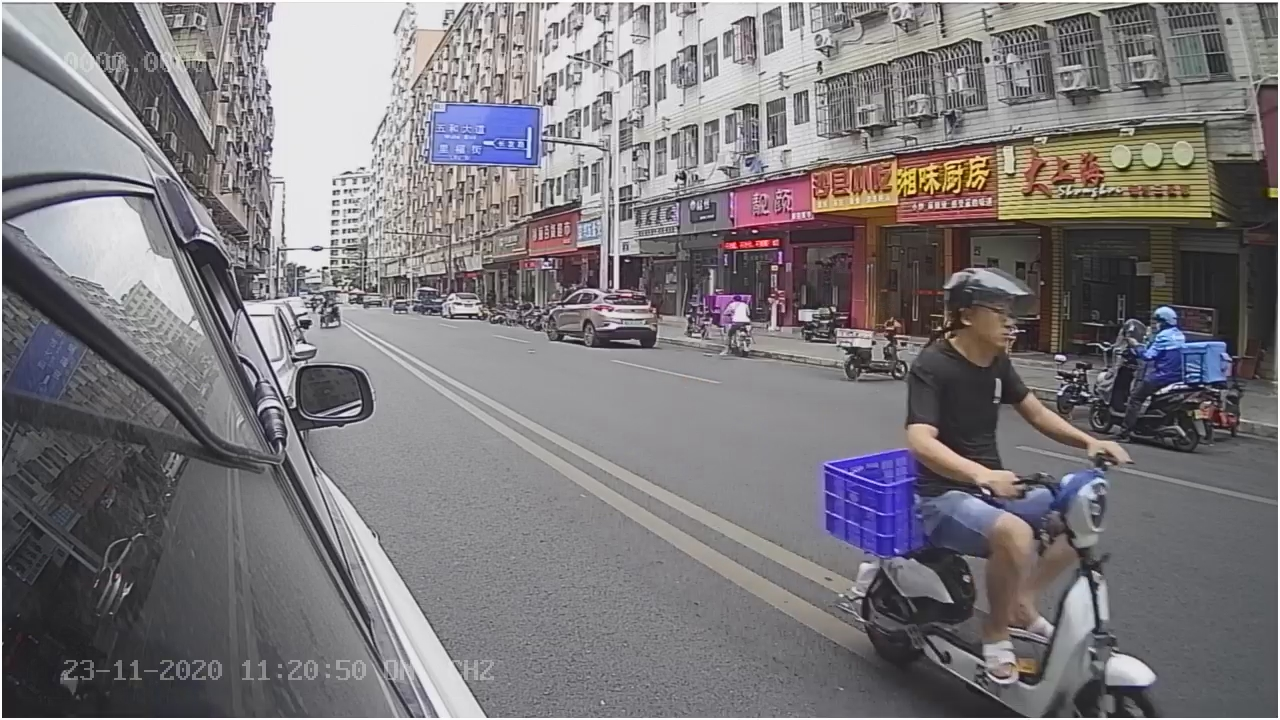person: (896, 262, 1131, 470)
